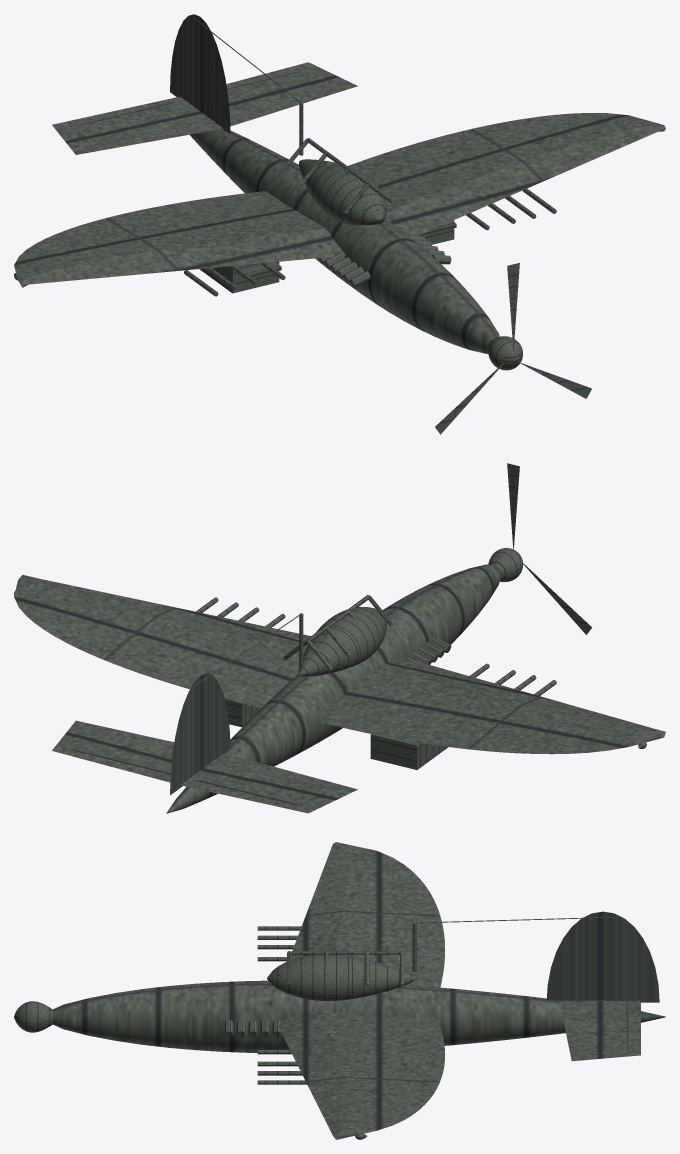
The model's file is wreck.gltf.
3 views of the same model, one above another, from view 1: azimuth 30°, elevation 25°; view 2: azimuth 150°, elevation 25°; view 3: azimuth 270°, elevation 25° (orthographic). The views are drawn at different scales.
Visible parts, largest first — view 1: spitfire_wreck, spitfire_wreck.001; view 2: spitfire_wreck, spitfire_wreck.001; view 3: spitfire_wreck.
Part boxes in pixels (bbox=[...]): spitfire_wreck: bbox=[14, 14, 665, 370]; spitfire_wreck.001: bbox=[435, 263, 591, 434]; spitfire_wreck: bbox=[14, 548, 665, 813]; spitfire_wreck.001: bbox=[507, 463, 591, 634]; spitfire_wreck: bbox=[14, 842, 665, 1139].
Size of the model in its own units: 22 by 5.6 by 20.75.
Materials: 1 (1 with a texture image).
